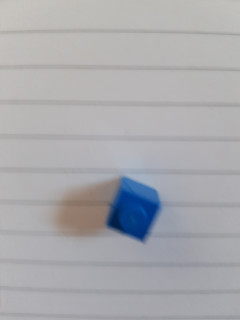1x1 blue: (102, 172, 166, 245)
